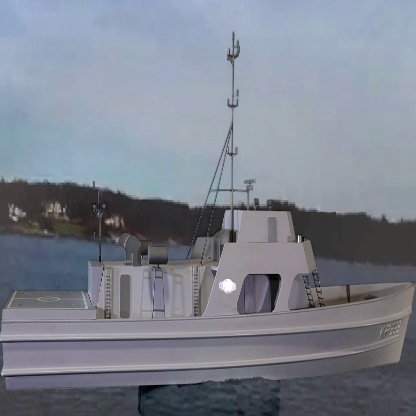YP689: (1, 25, 415, 391)
